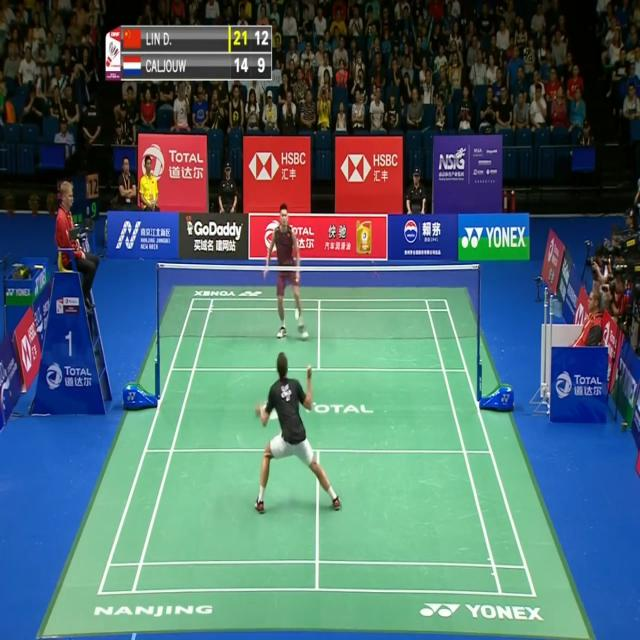Player1: (251, 341, 350, 535)
Player2: (260, 198, 312, 351)
